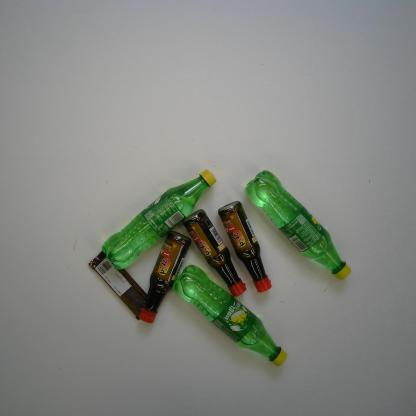Chocolate: (87, 248, 155, 321)
Drink: (243, 168, 353, 282), (171, 264, 288, 368), (102, 169, 217, 270)
Seasoner: (182, 208, 248, 298), (216, 201, 272, 295), (138, 229, 192, 325)
